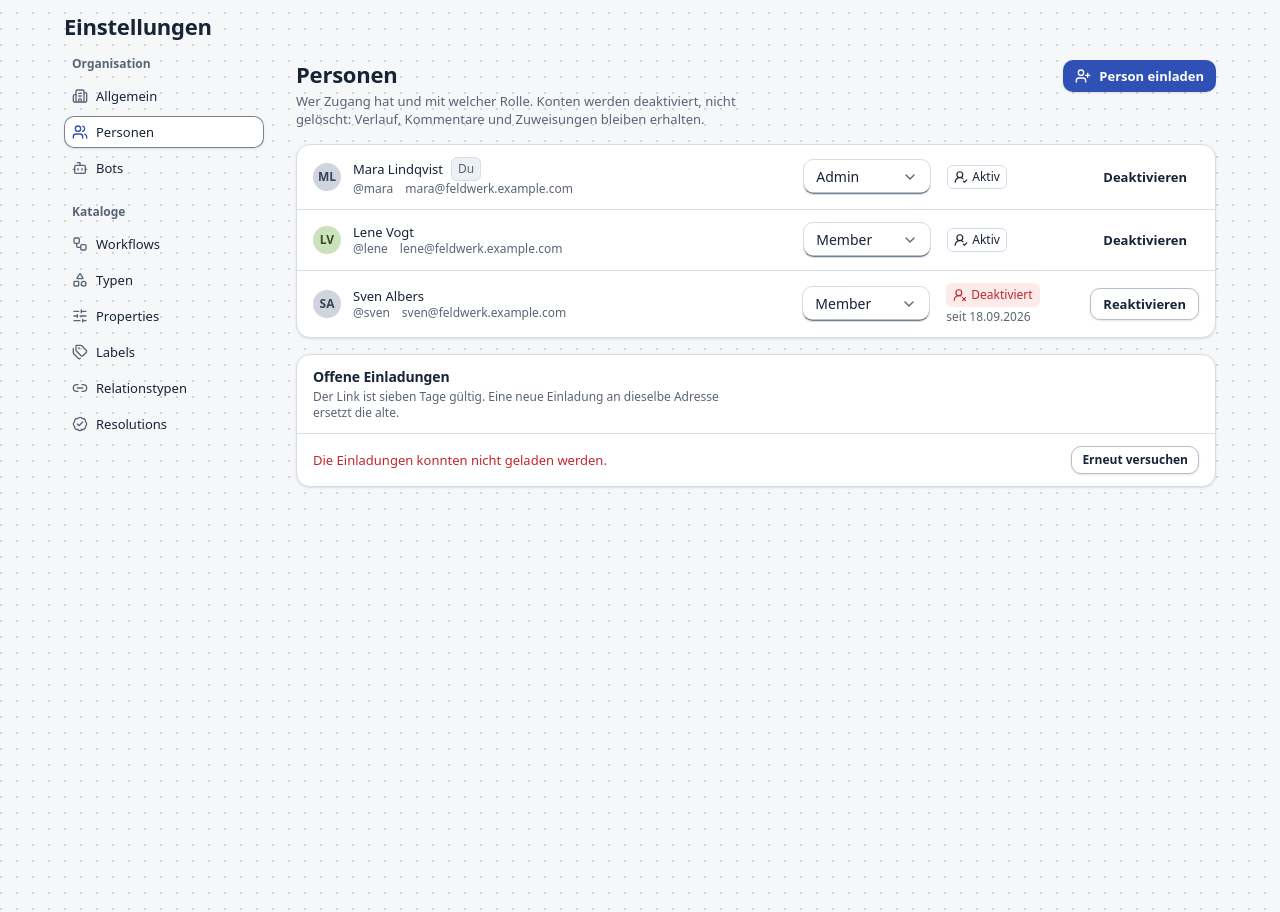
Test: People › says when the invitations could not be loaded, tries again, and says when there are none
Check: the text "Die Einladungen konnten nicht geladen werden." is shown, box [313, 451, 607, 469]
Click the button "Erneut versuchen": [1135, 460] box [1071, 446, 1199, 474]
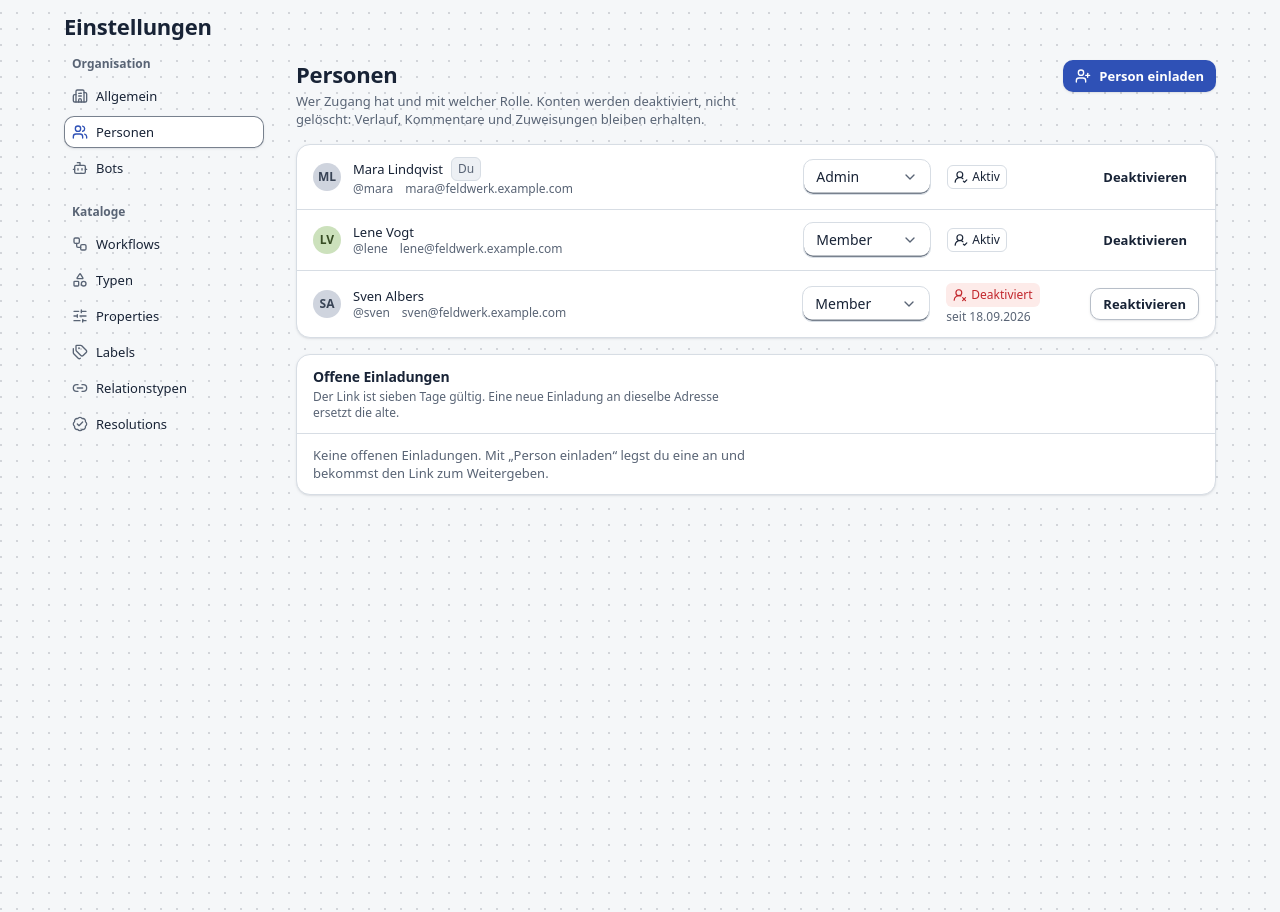
Check: the text "Keine offenen Einladungen" is shown, box [313, 446, 745, 482]
